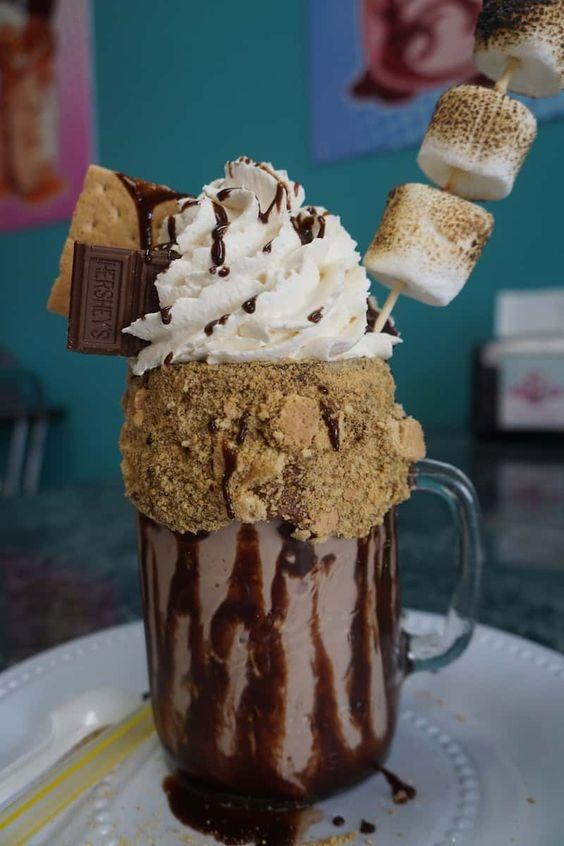glass-mug: (122, 384, 491, 828)
